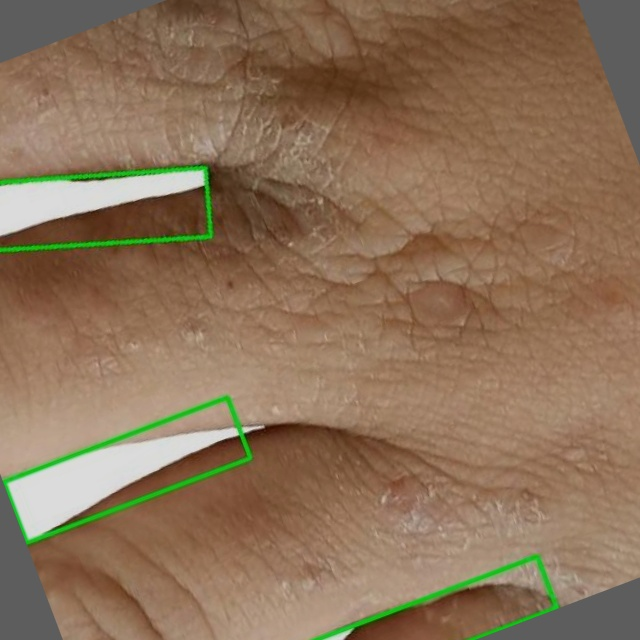Scabies: (3, 395, 251, 541), (0, 166, 211, 246)
